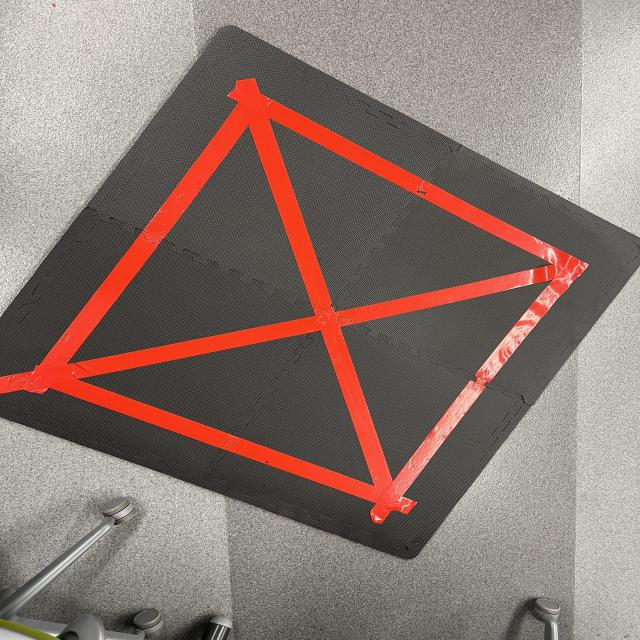landingPads: (3, 22, 640, 560)
